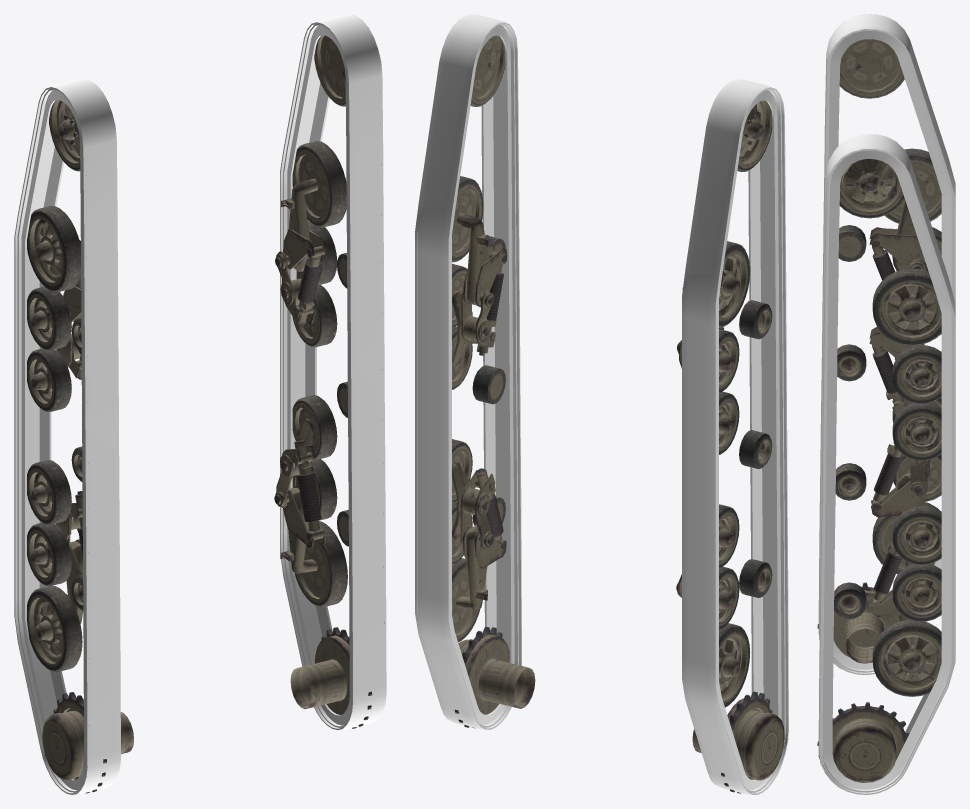
Rendered from Chassis.glb.
3 views of the same model, side by side, from view 1: azimuth 30°, elevation 25°; view 2: azimuth 150°, elevation 25°; view 3: azimuth 270°, elevation 25° (orthographic). The views are drawn at different scales.
Visible parts, largest first — view 1: set_3_group_0, set_2_group_0, set_0_group_0, set_1_group_0; view 2: set_3_group_0, set_2_group_0, set_0_group_0, set_1_group_0; view 3: set_0_group_0, set_2_group_0, set_1_group_0, set_3_group_0.
Boxes of the visible parts, left/top/right/bottom form: set_3_group_0: left=14, top=79, right=120, bottom=794; set_2_group_0: left=280, top=14, right=386, bottom=729; set_0_group_0: left=274, top=35, right=372, bottom=728; set_1_group_0: left=27, top=100, right=133, bottom=793; set_3_group_0: left=682, top=79, right=788, bottom=794; set_2_group_0: left=415, top=14, right=521, bottom=729; set_0_group_0: left=452, top=35, right=535, bottom=728; set_1_group_0: left=676, top=100, right=784, bottom=793; set_0_group_0: left=817, top=159, right=941, bottom=782; set_2_group_0: left=818, top=134, right=955, bottom=794; set_1_group_0: left=817, top=39, right=941, bottom=663; set_3_group_0: left=818, top=14, right=955, bottom=674.
Size of the model in its own units: 2.56 by 5.55 by 1.07.
4 materials, 2 textured.
